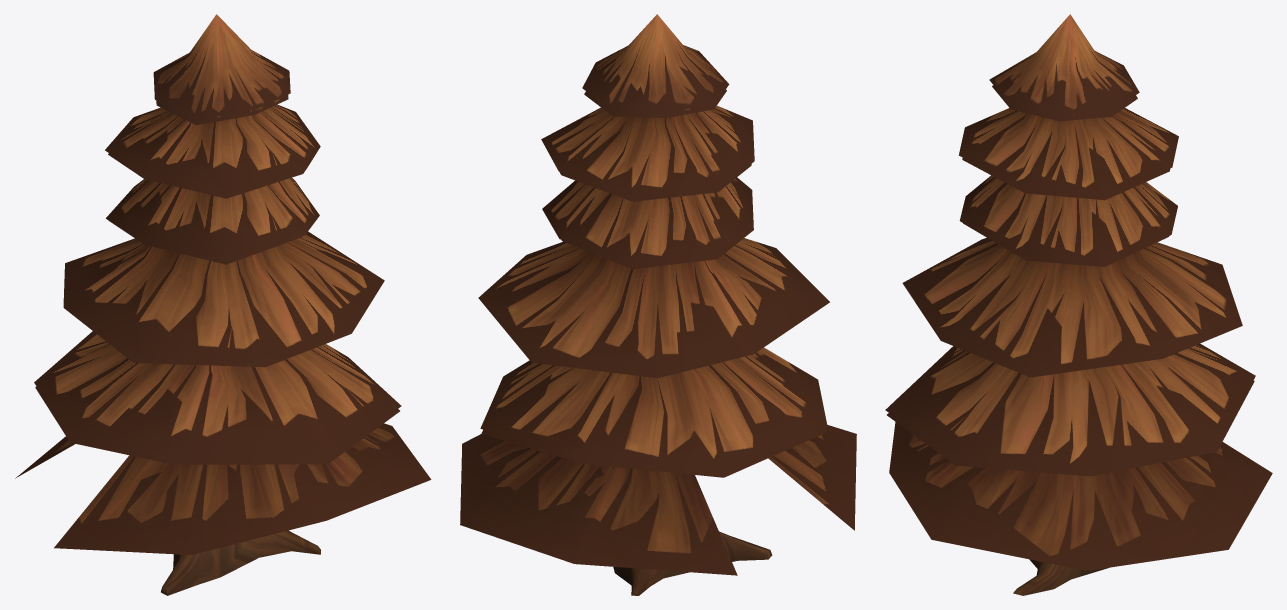
Rendered from pine_03.fbx.
The picture shows the model from 3 angles, left to right: view 1: azimuth 30°, elevation 25°; view 2: azimuth 150°, elevation 25°; view 3: azimuth 270°, elevation 25°; orthographic projection.
Visible parts, largest first — view 1: pine_03; view 2: pine_03; view 3: pine_03.
Part boxes in pixels (x1,y1,x2,y2): pine_03: (15, 14, 431, 595); pine_03: (460, 14, 856, 595); pine_03: (885, 14, 1272, 595).
Size of the model in its own units: 11.72 by 16.61 by 10.76.
